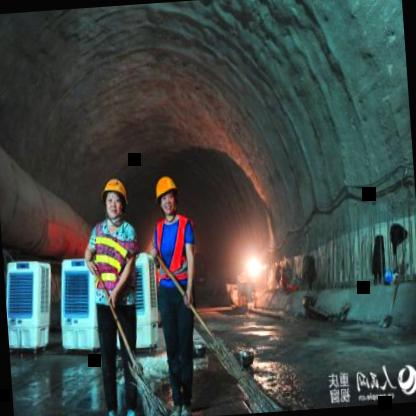helmet: (98, 171, 132, 225), (152, 170, 182, 219)
